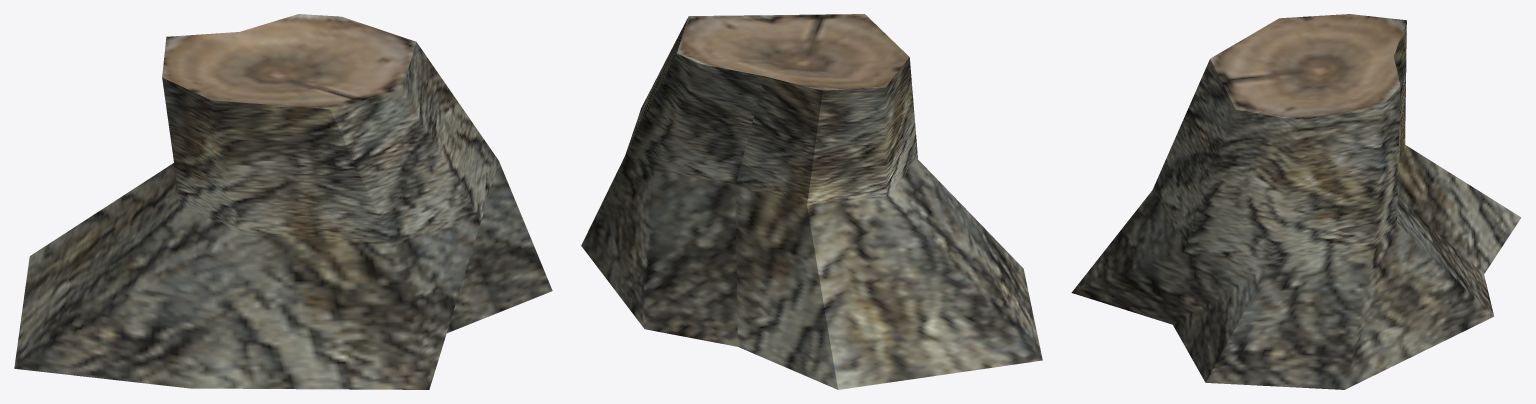
Rendered from Pen_1.fbx.
The picture shows the model from 3 angles, left to right: view 1: azimuth 30°, elevation 25°; view 2: azimuth 150°, elevation 25°; view 3: azimuth 270°, elevation 25°; orthographic projection. The views are drawn at different scales.
Visible parts, largest first — view 1: Detal331; view 2: Detal331; view 3: Detal331.
Boxes of the visible parts, x1=… form: Detal331: x1=14, y1=14, x2=552, y2=389; Detal331: x1=581, y1=14, x2=1042, y2=389; Detal331: x1=1071, y1=14, x2=1521, y2=389.
Bounding box in the file's own units: 546 × 286 × 476.
